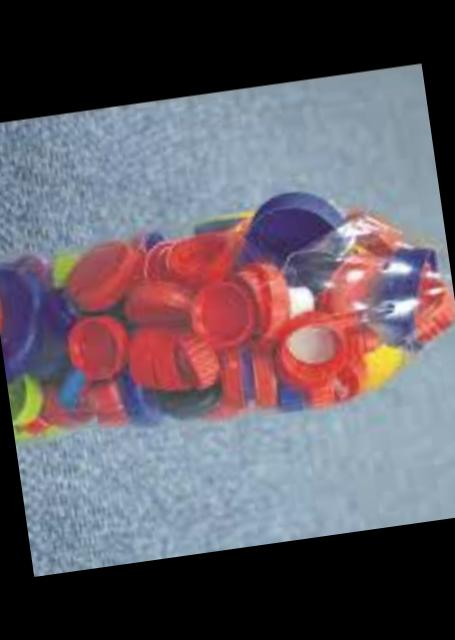plastic: (0, 196, 455, 442)
